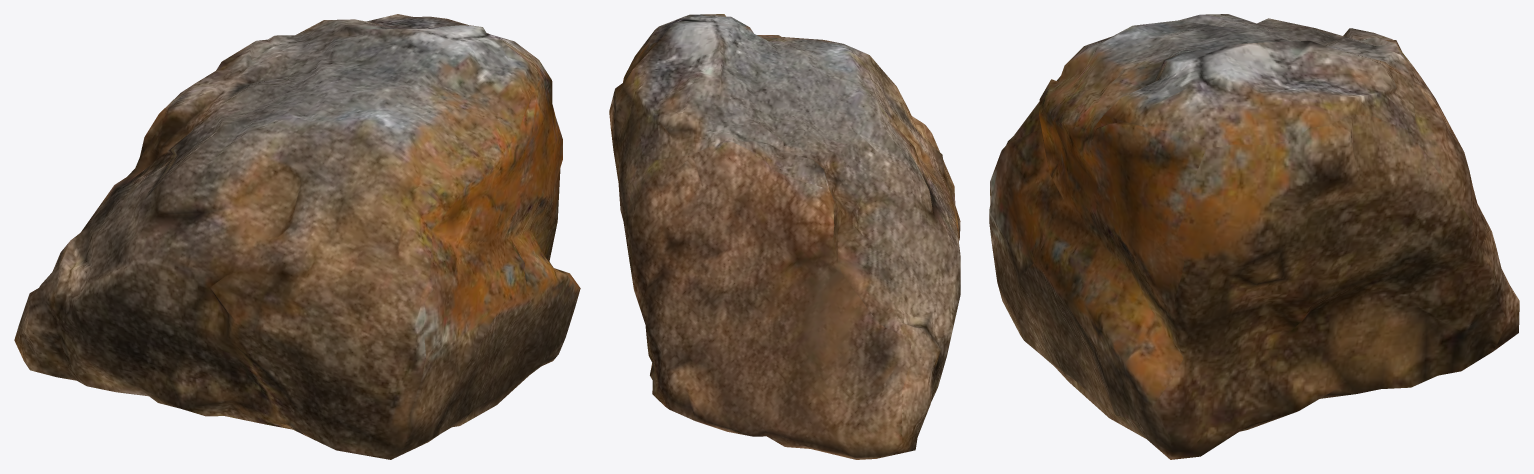
Rendered from rock-c.glb.
3 renders of one model, left to right at view 1: azimuth 30°, elevation 25°; view 2: azimuth 150°, elevation 25°; view 3: azimuth 270°, elevation 25°, orthographic. The views are drawn at different scales.
Visible parts, largest first — view 1: boulder_04; view 2: boulder_04; view 3: boulder_04.
Part boxes in pixels (<box>): boulder_04: <box>14,14,580,459</box>; boulder_04: <box>609,14,960,459</box>; boulder_04: <box>989,14,1519,459</box>.
Size of the model in its own units: 2.51 by 1.88 by 2.47.
Materials: 1 (1 with a texture image).
